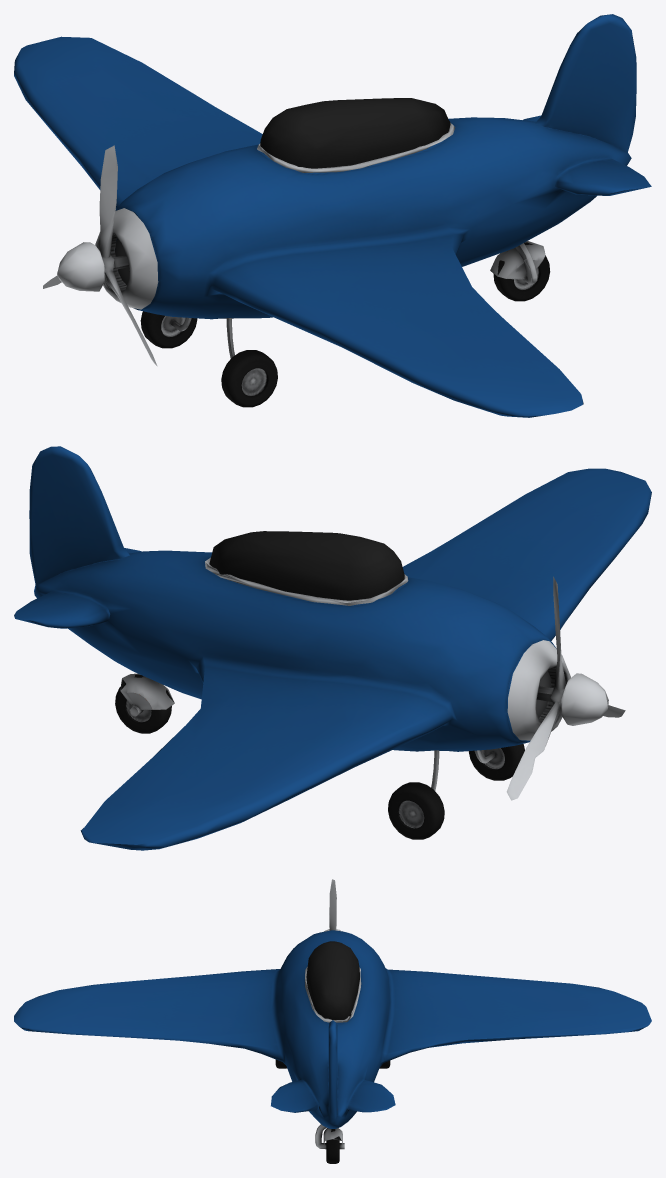
The model's file is Plane Toy 2.fbx.
3 renders of one model, top to bottom at view 1: azimuth 30°, elevation 25°; view 2: azimuth 150°, elevation 25°; view 3: azimuth 270°, elevation 25°, orthographic. The views are drawn at different scales.
Visible parts, largest first — view 1: Plane_Toy_2_Base, Plane_Toy_2_Front_Wheels, Plane_Toy_2_Fan, Plane_Toy_2_Back_Wheel; view 2: Plane_Toy_2_Base, Plane_Toy_2_Front_Wheels, Plane_Toy_2_Fan, Plane_Toy_2_Back_Wheel; view 3: Plane_Toy_2_Base.
Part boxes in pixels (left/top/right/bottom): Plane_Toy_2_Base: left=14, top=14, right=651, bottom=417; Plane_Toy_2_Front_Wheels: left=140, top=311, right=277, bottom=407; Plane_Toy_2_Fan: left=43, top=145, right=157, bottom=366; Plane_Toy_2_Back_Wheel: left=493, top=255, right=550, bottom=301; Plane_Toy_2_Base: left=14, top=446, right=651, bottom=850; Plane_Toy_2_Front_Wheels: left=388, top=744, right=524, bottom=839; Plane_Toy_2_Fan: left=506, top=576, right=625, bottom=800; Plane_Toy_2_Back_Wheel: left=115, top=687, right=171, bottom=733; Plane_Toy_2_Base: left=14, top=929, right=651, bottom=1149.
Size of the model in its own units: 24.54 by 10.7 by 37.57.
1 material, 1 textured.
